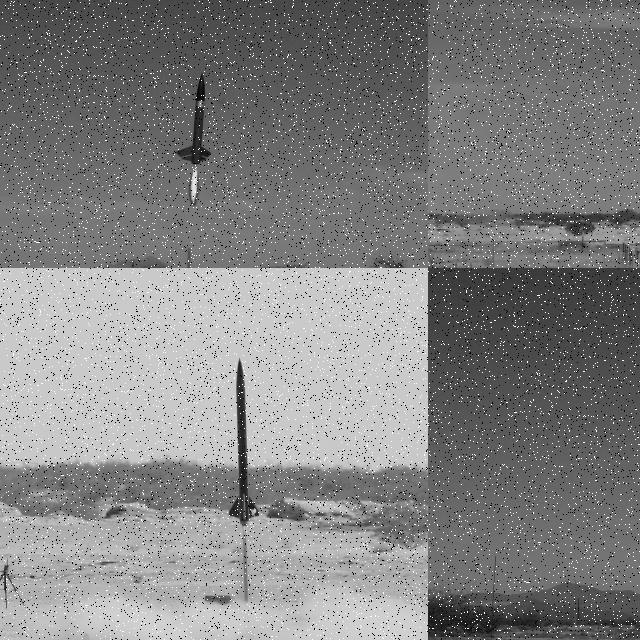Rocket: (227, 356, 259, 526), (174, 72, 212, 166)
